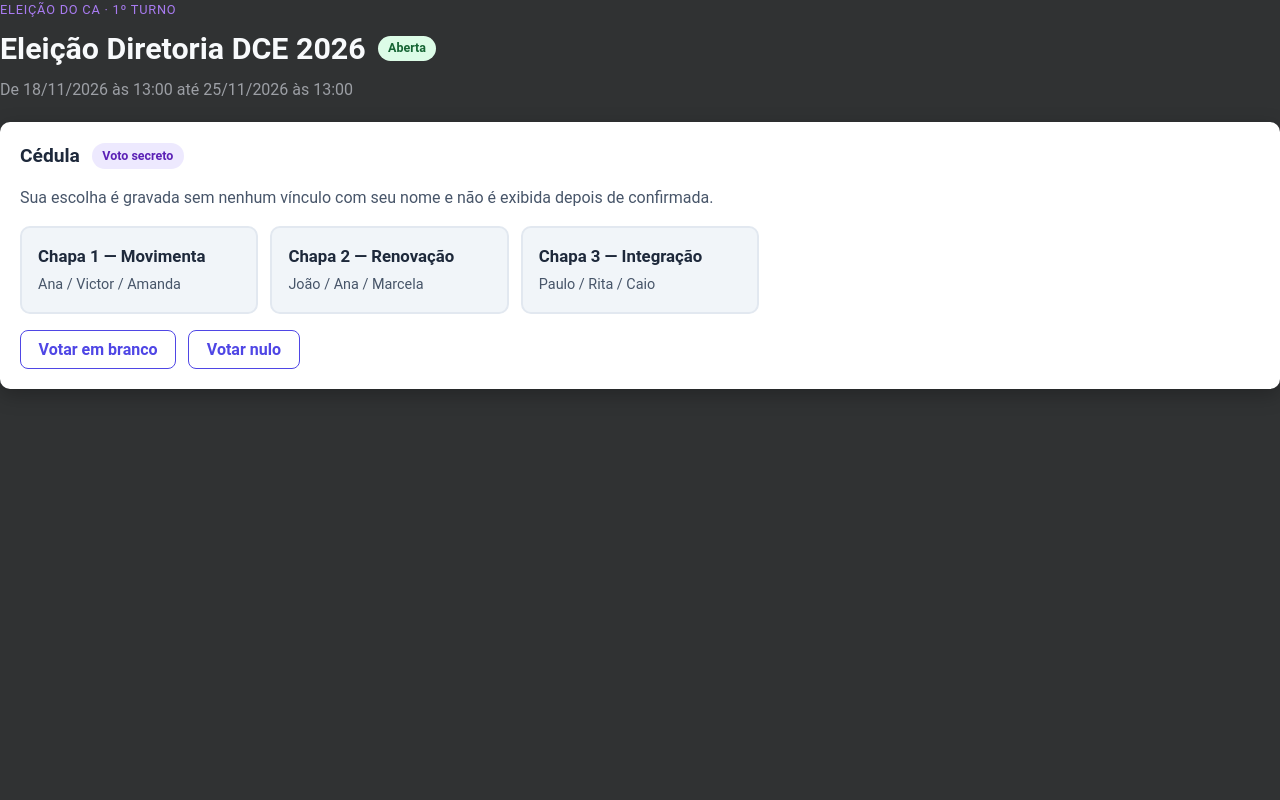
Test case: Votar: eleição do CA › mostra a mensagem do servidor quando o eleitor não está apto
Step 1. Click the button "Votar nulo" → click(244, 349), box x1=188 y1=330 x2=300 y2=369
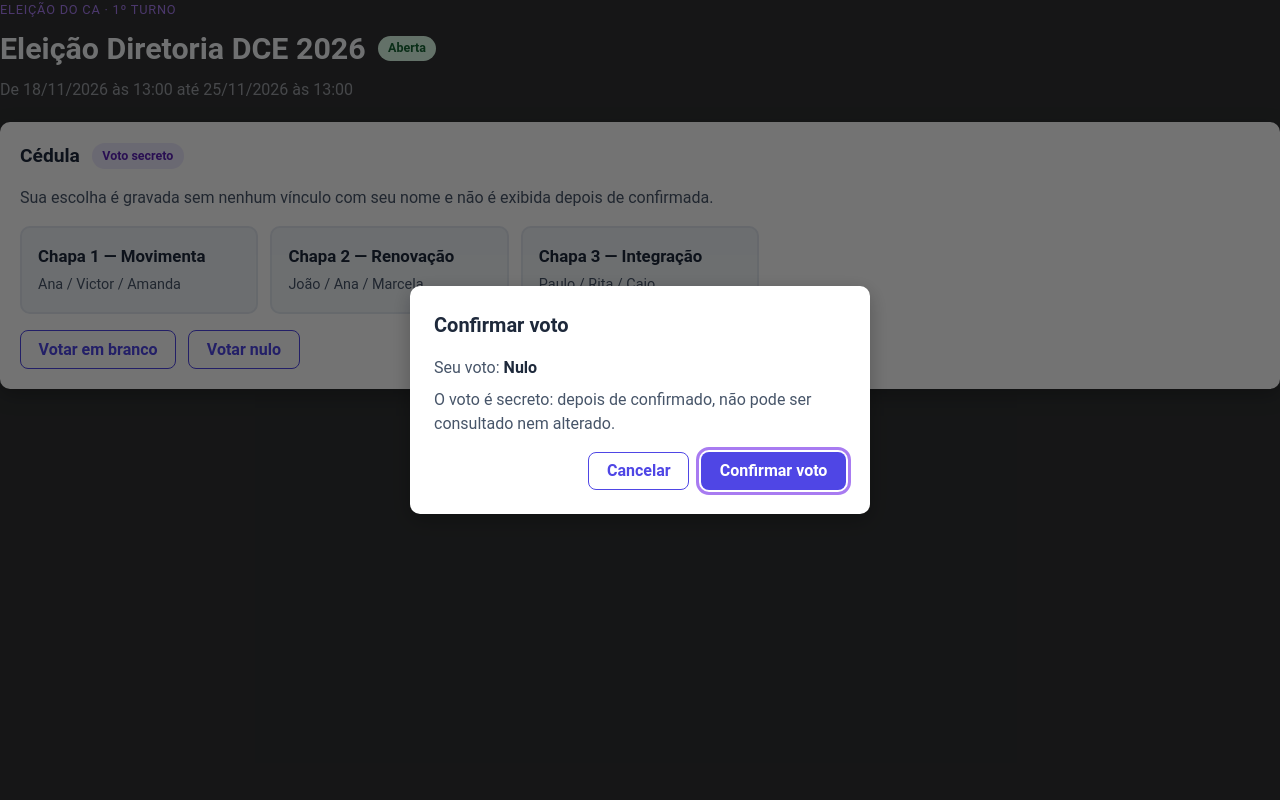
Step 2. Click the button "Confirmar voto" → click(774, 471), box x1=701 y1=452 x2=846 y2=490
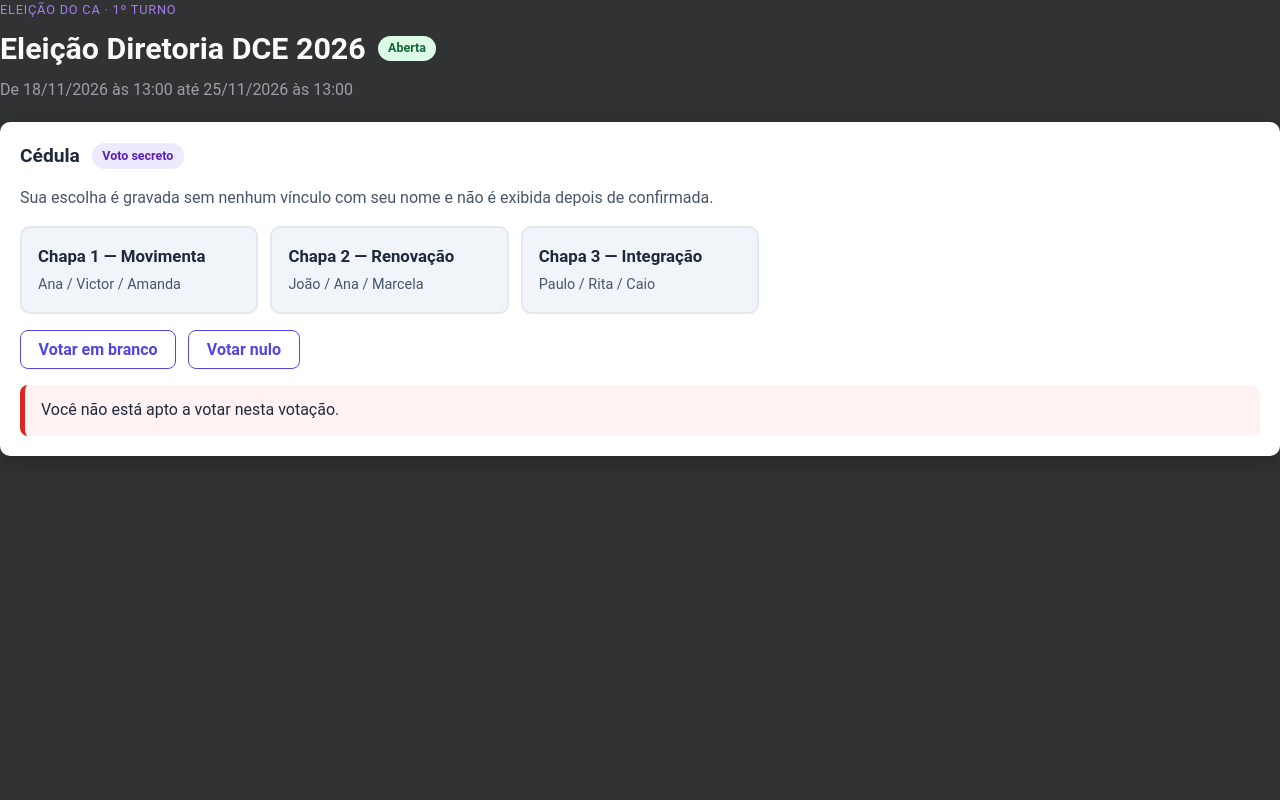
Check: the message reads "Você não está apto a votar nesta votação.", box x1=41 y1=400 x2=339 y2=419
